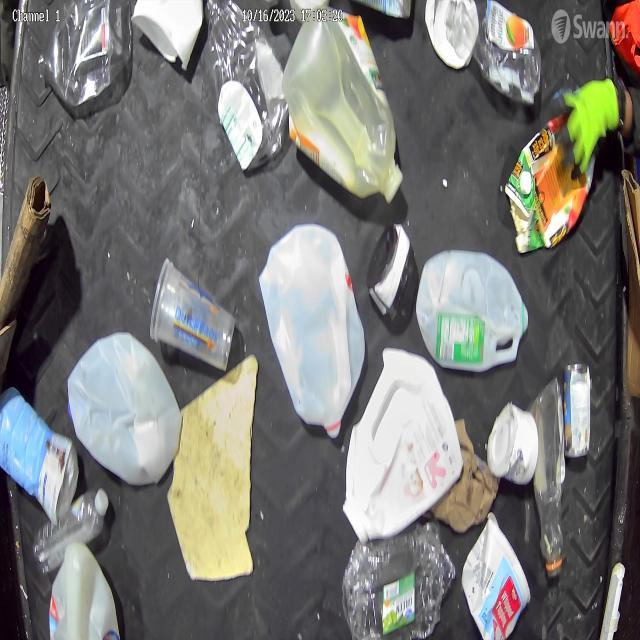milk_jug: (342, 344, 461, 546), (258, 224, 364, 433), (67, 327, 183, 489), (415, 247, 527, 367)
non_white_jug: (508, 117, 590, 250)
plastic_bottle: (530, 377, 567, 582)
